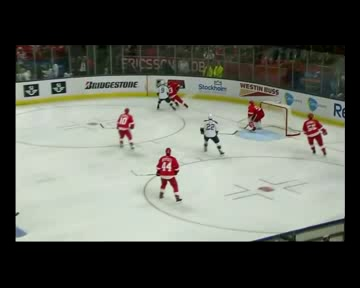normal: (147, 147, 192, 204), (296, 109, 332, 158), (196, 109, 233, 156), (110, 104, 142, 152), (150, 78, 193, 113), (241, 96, 268, 137)
